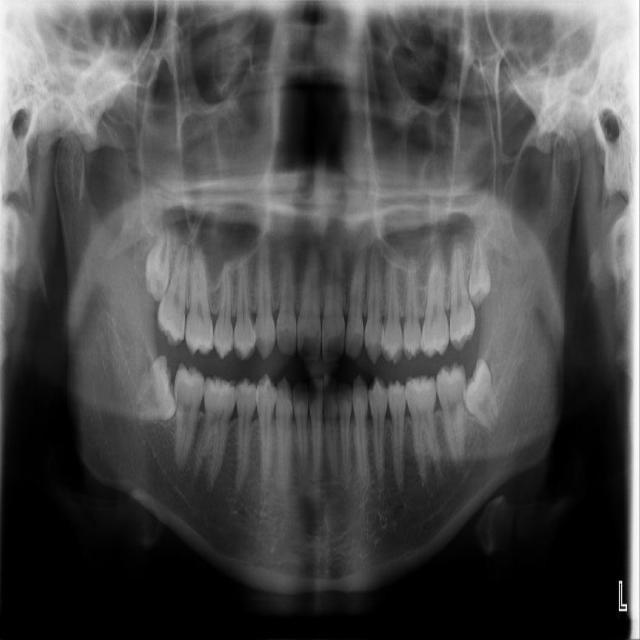3M ESPE Implant: (144, 226, 173, 303)
73: (604, 580, 612, 604)
BioHorizons Implant: (448, 245, 478, 353)
BioLife Implant: (466, 232, 497, 309)
Biomet 3i Implant: (455, 355, 504, 439)
Blue Sky Bio Implant: (433, 362, 467, 469)
Caries: (156, 243, 189, 347)
Implant: (174, 363, 206, 468)
Keystone Dental Implant: (135, 354, 179, 423)
